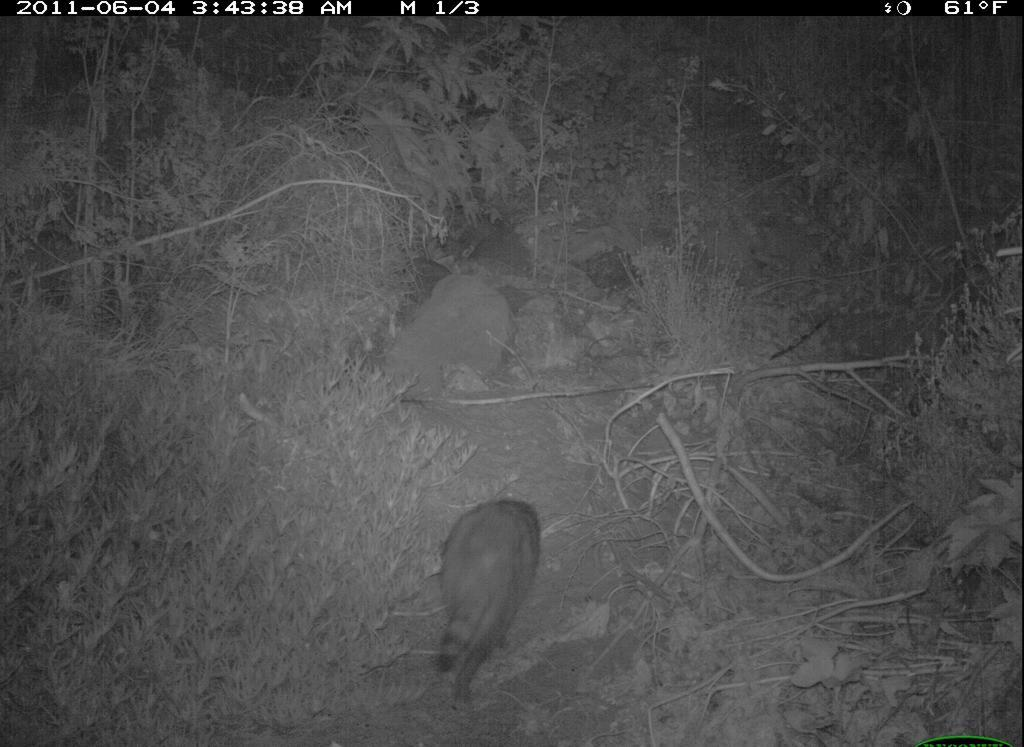raccoon: (424, 497, 552, 706)
